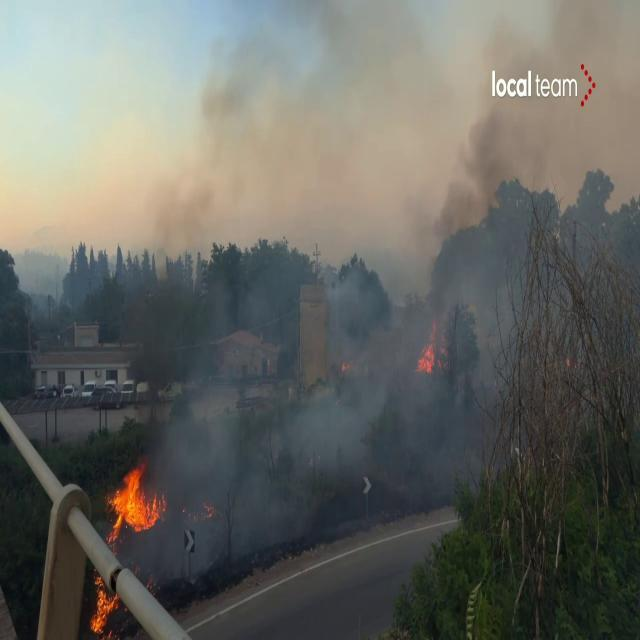Fire: (106, 460, 166, 538), (89, 571, 121, 636), (416, 316, 447, 378)
Smoke: (152, 225, 446, 534), (140, 1, 442, 252), (436, 0, 640, 228), (430, 78, 510, 238)
